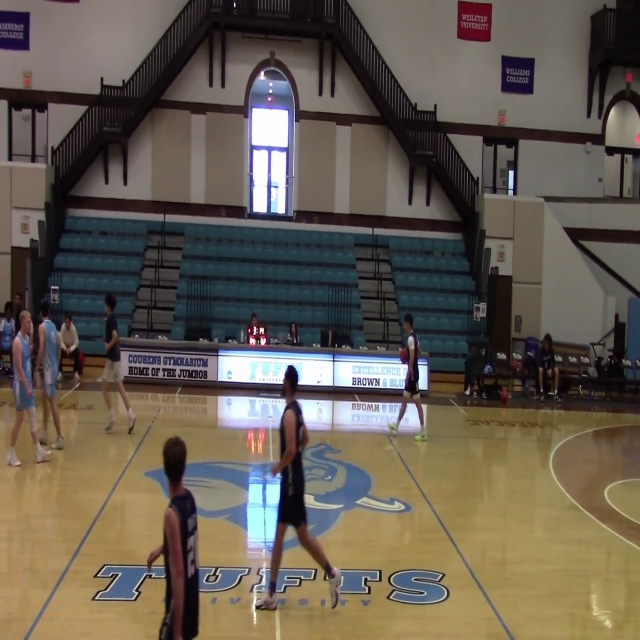Basketball: (399, 347, 408, 364)
